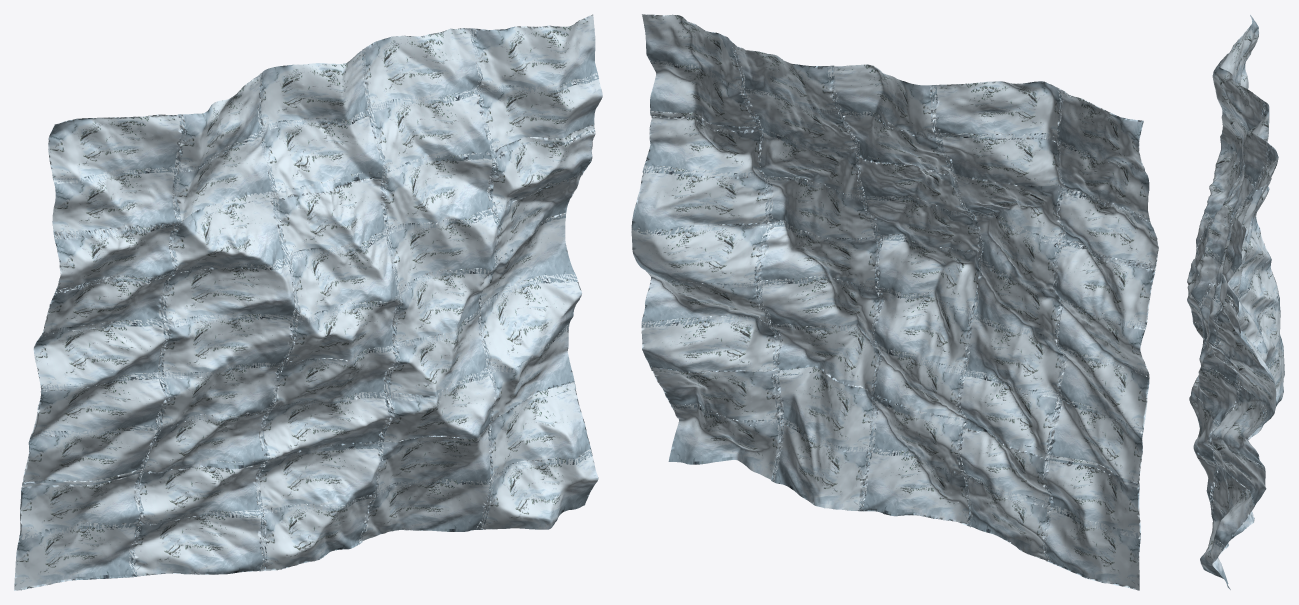
File: mountain.glb
The picture shows the model from 3 angles, left to right: view 1: azimuth 30°, elevation 25°; view 2: azimuth 150°, elevation 25°; view 3: azimuth 270°, elevation 25°; orthographic projection. The views are drawn at different scales.
Visible parts, largest first — view 1: Snow_Covered_Mountain_Range_in_Northern_Montana.001; view 2: Snow_Covered_Mountain_Range_in_Northern_Montana.001; view 3: Snow_Covered_Mountain_Range_in_Northern_Montana.001.
Part boxes in pixels (x1,y1,x2,y2): Snow_Covered_Mountain_Range_in_Northern_Montana.001: (14,14,602,590); Snow_Covered_Mountain_Range_in_Northern_Montana.001: (631,14,1158,590); Snow_Covered_Mountain_Range_in_Northern_Montana.001: (1187,15,1284,589).
Bounding box in the file's own units: 293117 × 251591 × 58344.
1 material, 1 textured.
